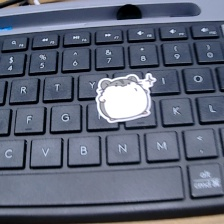mouse: (95, 74, 158, 129)
